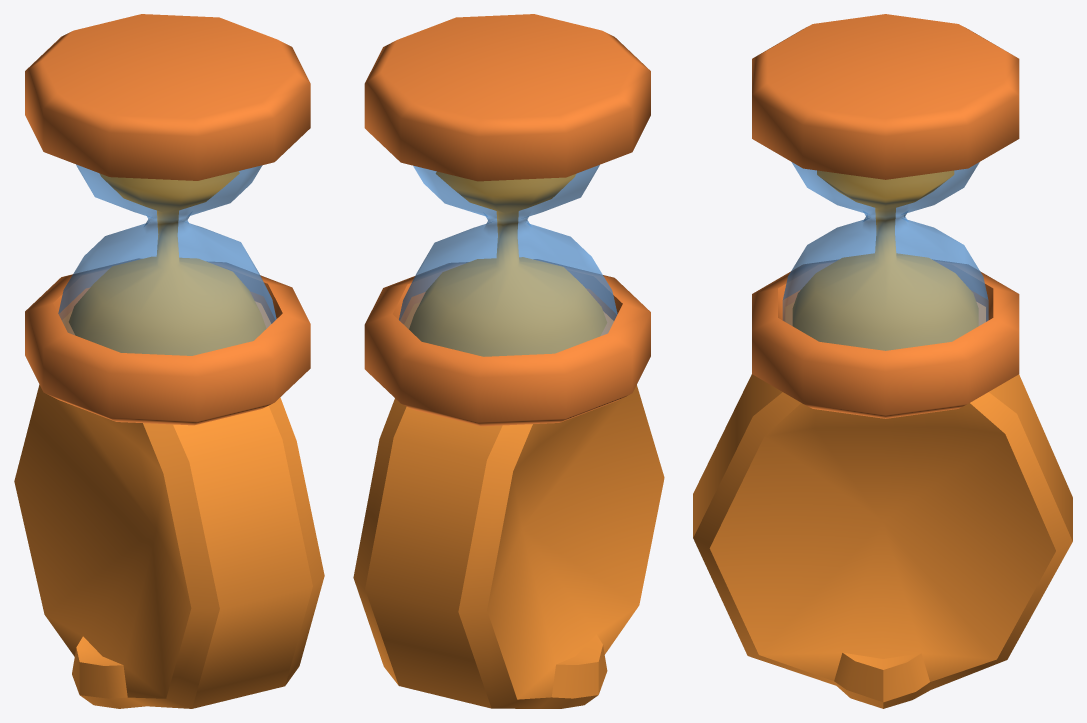
Rendered from Watch_4.fbx.
3 views of the same model, side by side, from view 1: azimuth 30°, elevation 25°; view 2: azimuth 150°, elevation 25°; view 3: azimuth 270°, elevation 25° (orthographic). The views are drawn at different scales.
Parts seen in each view (by area): view 1: Watch_4; view 2: Watch_4; view 3: Watch_4.
Boxes of the visible parts, x1,y1,x2,y2 form: Watch_4: [14, 14, 324, 708]; Watch_4: [353, 14, 664, 708]; Watch_4: [693, 14, 1072, 708].
Size of the model in its own units: 8.65 by 20.59 by 11.68.
